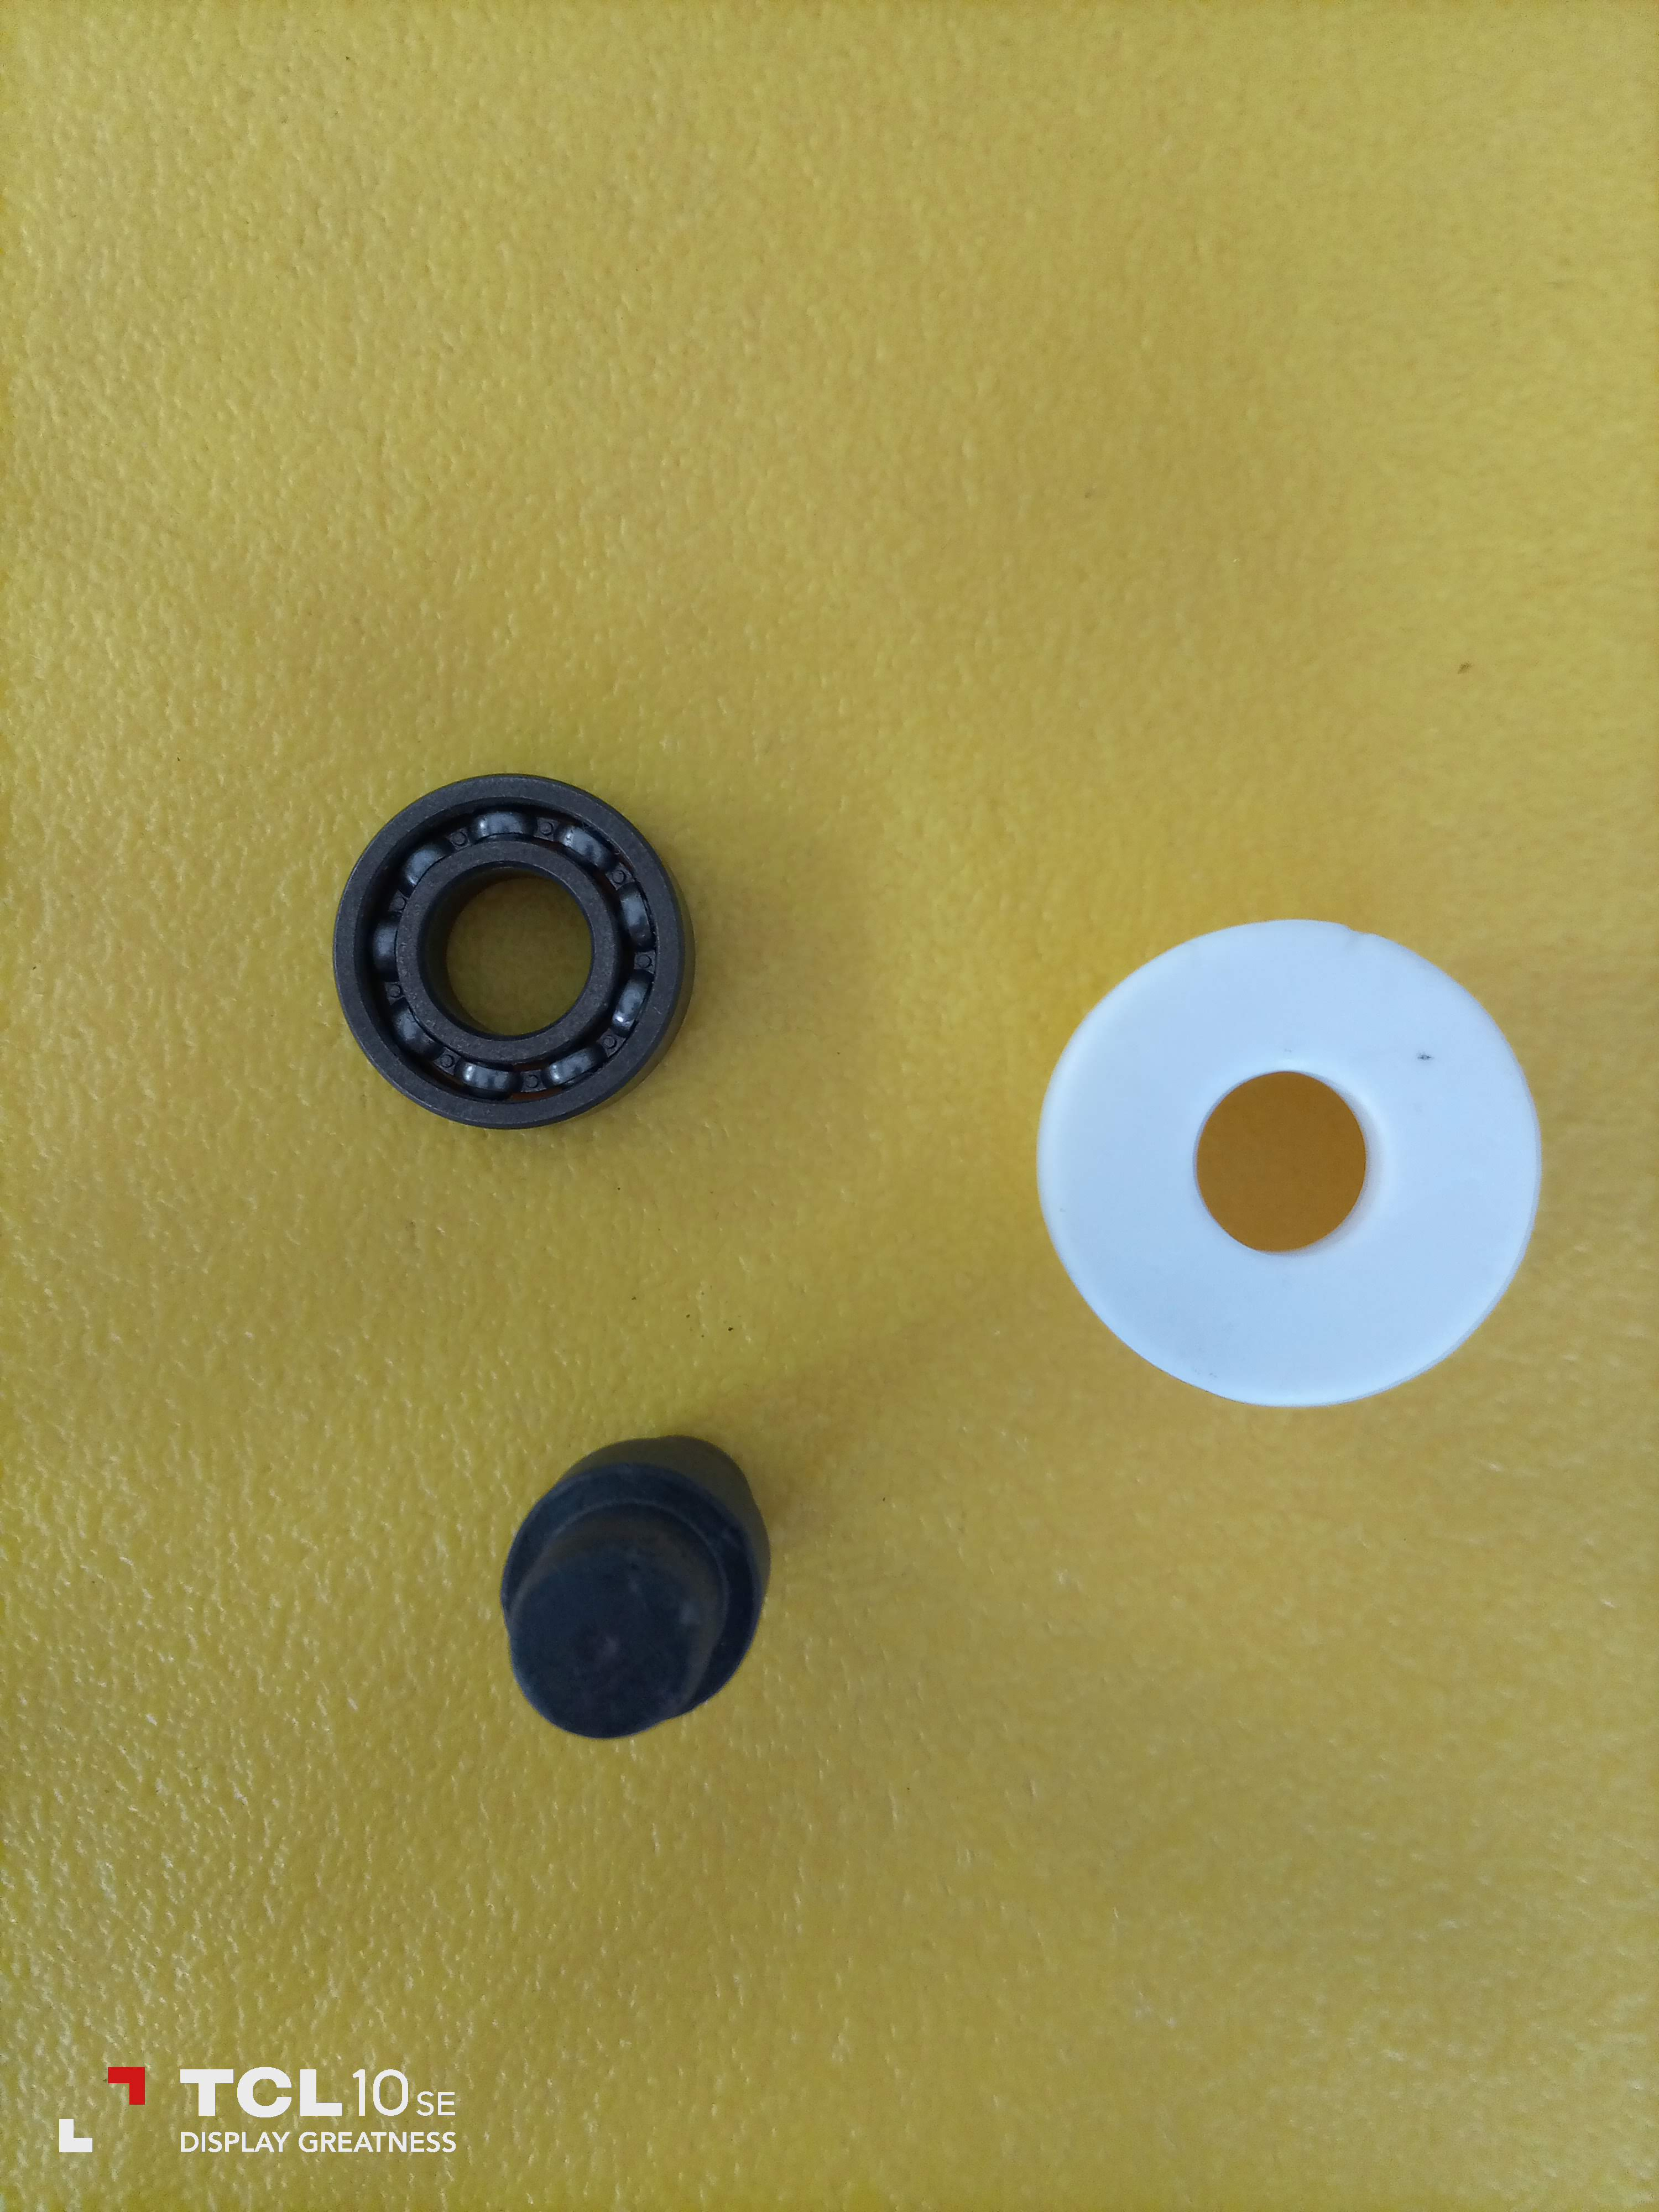Roda: (328, 777, 678, 1136), (479, 1426, 793, 1733)
Tapa: (1028, 932, 1541, 1400)
